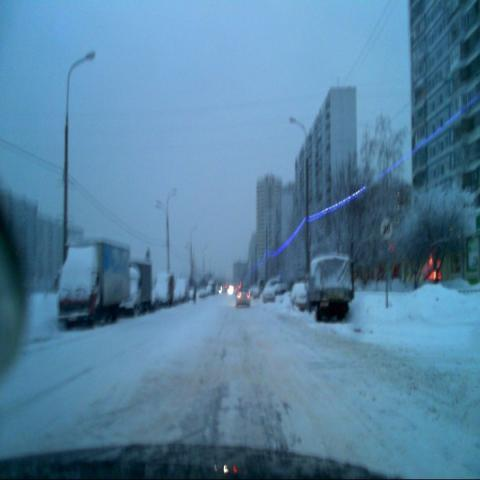3_25: (379, 214, 393, 240)
